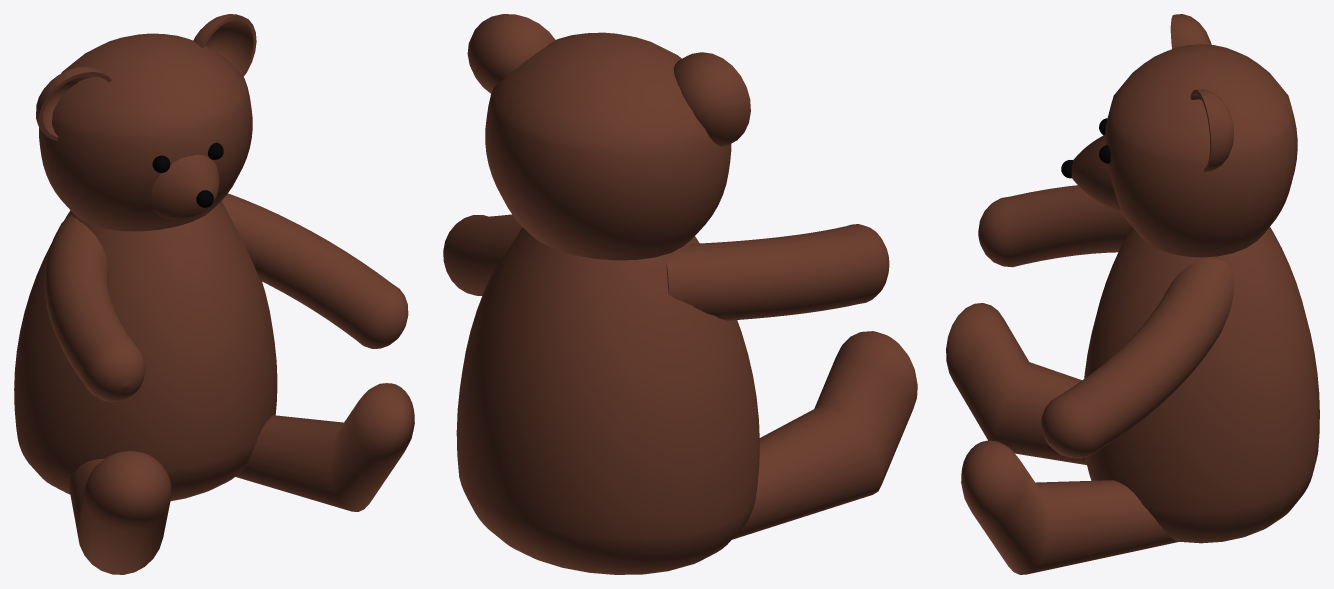
Rendered from product.fbx.
3 renders of one model, left to right at view 1: azimuth 30°, elevation 25°; view 2: azimuth 150°, elevation 25°; view 3: azimuth 270°, elevation 25°, orthographic. The views are drawn at different scales.
Visible parts, largest first — view 1: Group1, Group9, Group7, Group4, Group2, Group5, Group3, Group8; view 2: Group1, Group2, Group4, Group8, Group7, Group3; view 3: Group1, Group7, Group9, Group2, Group4, Group5, Group3, Group8.
Boxes of the visible parts, x1,y1,x2,y2 form: Group1: [14, 33, 277, 501]; Group9: [235, 383, 414, 511]; Group7: [221, 193, 408, 348]; Group4: [44, 215, 145, 401]; Group2: [68, 451, 171, 574]; Group5: [150, 154, 219, 219]; Group3: [193, 14, 256, 76]; Group8: [36, 66, 111, 140]; Group1: [456, 32, 759, 574]; Group2: [732, 331, 917, 539]; Group4: [666, 224, 889, 320]; Group8: [673, 52, 750, 146]; Group7: [443, 214, 522, 295]; Group3: [467, 14, 555, 93]; Group1: [1084, 44, 1319, 543]; Group7: [1041, 258, 1234, 458]; Group9: [961, 440, 1178, 574]; Group2: [946, 303, 1086, 464]; Group4: [978, 185, 1131, 267]; Group5: [1071, 135, 1121, 212]; Group3: [1190, 89, 1233, 171]; Group8: [1170, 14, 1211, 48].
Bounding box in the file's own units: 0.0334 × 0.0387 × 0.0288.
